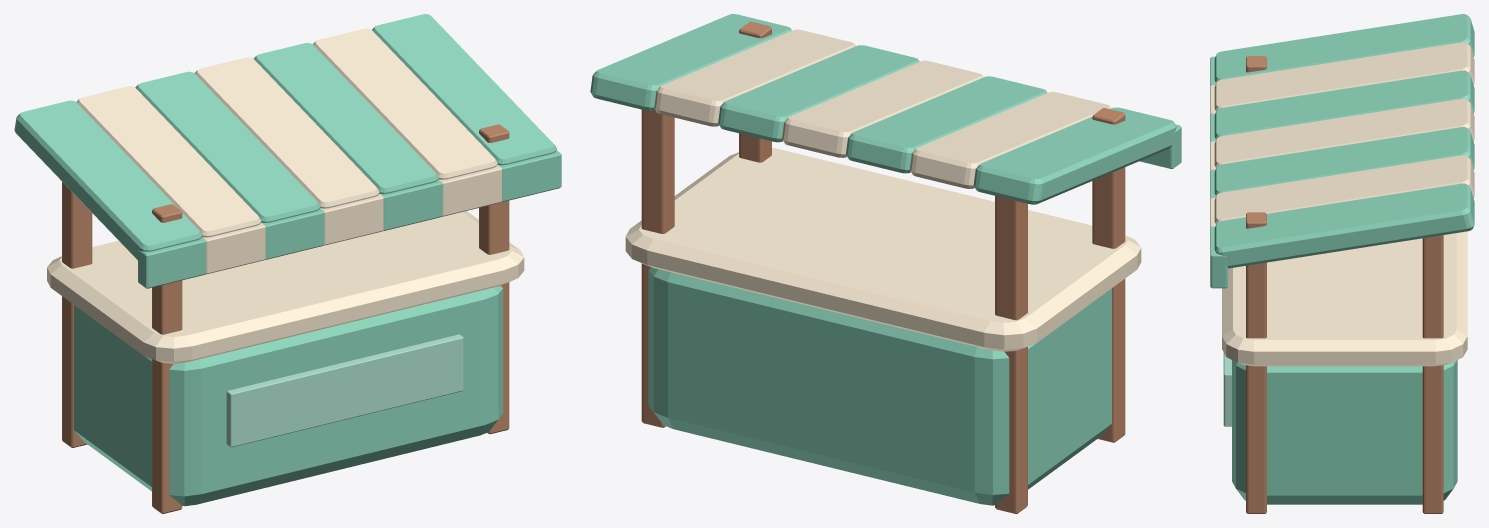
Rendered from street_stall.glb.
The picture shows the model from 3 angles, left to right: view 1: azimuth 30°, elevation 25°; view 2: azimuth 150°, elevation 25°; view 3: azimuth 270°, elevation 25°; orthographic projection. The views are drawn at different scales.
Visible parts, largest first — view 1: model, awning, counter; view 2: model, counter, awning; view 3: awning, model, counter.
Boxes of the visible parts, x1,y1,x2,y2 form: model: (47,124,561,513); awning: (14,14,556,260); counter: (74,286,503,506); model: (625,21,1181,513); counter: (648,267,1111,505); awning: (590,14,1176,204); awning: (1214,14,1474,268); model: (1210,56,1467,513); counter: (1232,360,1457,504).
Bounding box in the file's own units: 1.6 × 1.2 × 0.9.
